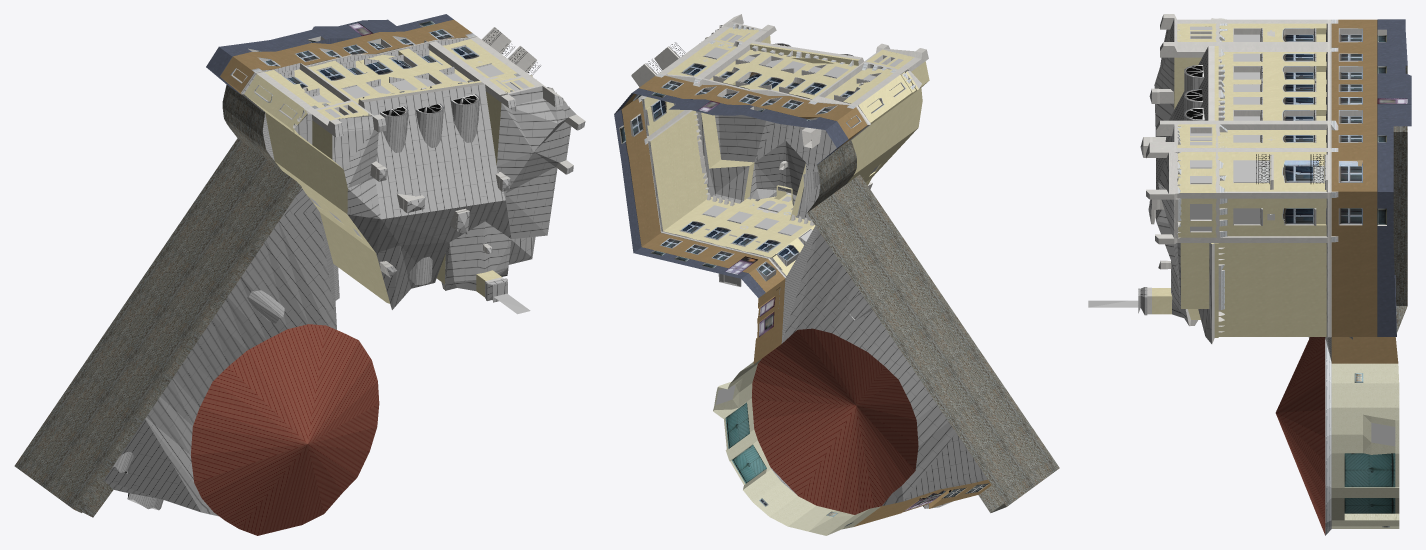
The model's file is Lai_47-49-origo.obj.
The picture shows the model from 3 angles, left to right: view 1: azimuth 30°, elevation 25°; view 2: azimuth 150°, elevation 25°; view 3: azimuth 270°, elevation 25°; orthographic projection. The views are drawn at different scales.
Parts seen in each view (by area): view 1: Lai_47_49; view 2: Lai_47_49; view 3: Lai_47_49.
Boxes of the visible parts, x1=… form: Lai_47_49: x1=14, y1=14, x2=585, y2=535; Lai_47_49: x1=614, y1=14, x2=1059, y2=535; Lai_47_49: x1=1088, y1=14, x2=1411, y2=535.
Bounding box in the file's own units: 42.06 × 41 × 24.34.
